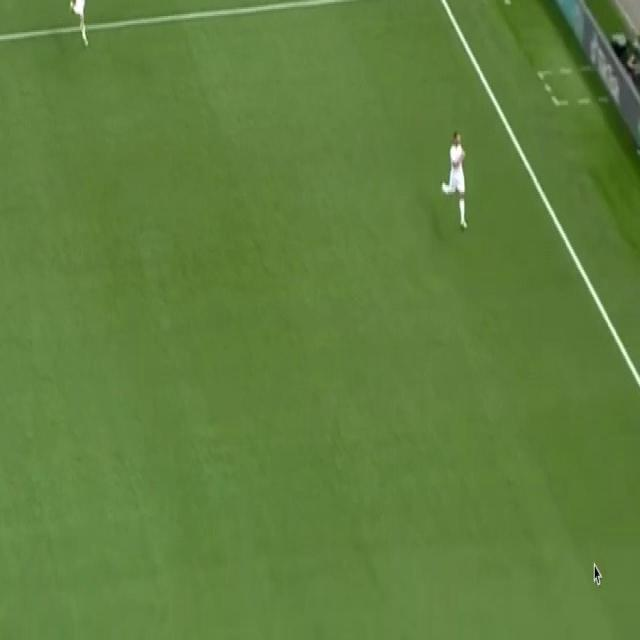player-white: (440, 129, 470, 231), (68, 0, 92, 48)
